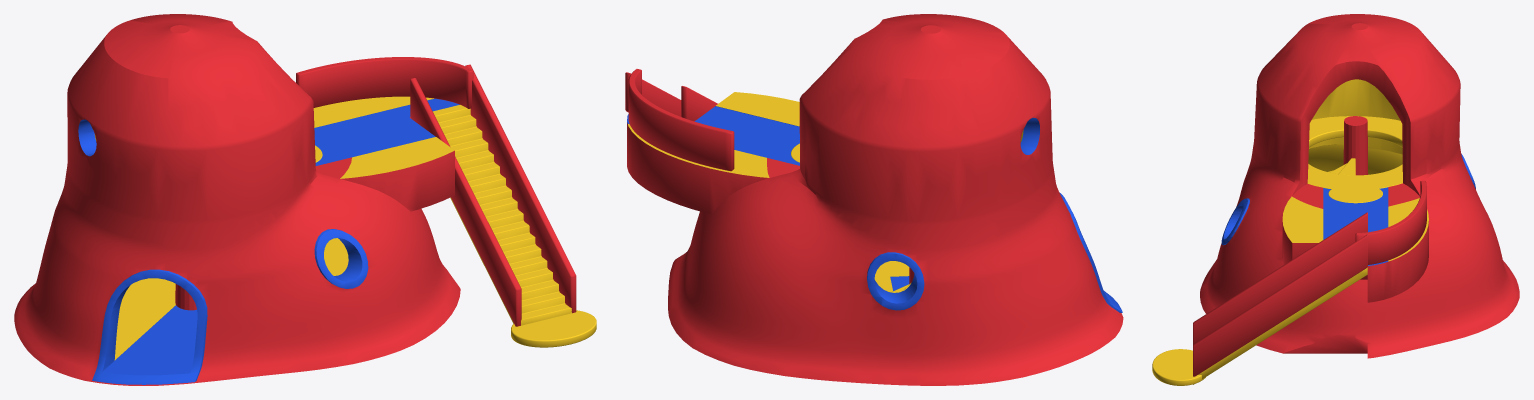
File: adobe_15_roofstep_burrow.glb
3 renders of one model, left to right at view 1: azimuth 30°, elevation 25°; view 2: azimuth 150°, elevation 25°; view 3: azimuth 270°, elevation 25°, orthographic. The views are drawn at different scales.
Parts seen in each view (by area): view 1: 15 • Roofstep Burrow, Exterior roof approach, Roof terrace outer lip, Exterior roof approach side guard.001, Exterior roof approach side guard, Exterior roof stair foot; view 2: 15 • Roofstep Burrow, Roof terrace outer lip, Exterior roof approach side guard.001, Exterior roof approach side guard; view 3: 15 • Roofstep Burrow, Exterior roof approach side guard.001, Exterior roof approach side guard, Roof doorway interior landing, Roof terrace outer lip, Exterior roof stair foot, Exterior roof approach, Inner spiral adobe core, Roof arch continuous threshold.
Boxes of the visible parts, x1,y1,x2,y2 form: 15 • Roofstep Burrow: [14, 14, 460, 385]; Exterior roof approach: [433, 105, 571, 325]; Roof terrace outer lip: [296, 57, 473, 108]; Exterior roof approach side guard.001: [465, 64, 576, 313]; Exterior roof approach side guard: [410, 78, 521, 326]; Exterior roof stair foot: [511, 310, 596, 347]; 15 • Roofstep Burrow: [627, 14, 1123, 385]; Roof terrace outer lip: [628, 69, 734, 171]; Exterior roof approach side guard.001: [625, 72, 681, 116]; Exterior roof approach side guard: [681, 86, 717, 121]; 15 • Roofstep Burrow: [1200, 14, 1519, 358]; Exterior roof approach side guard.001: [1193, 234, 1367, 376]; Exterior roof approach side guard: [1193, 212, 1367, 344]; Roof doorway interior landing: [1307, 116, 1402, 189]; Roof terrace outer lip: [1355, 180, 1426, 264]; Exterior roof stair foot: [1152, 349, 1205, 385]; Exterior roof approach: [1193, 267, 1367, 384]; Inner spiral adobe core: [1343, 116, 1368, 175]; Roof arch continuous threshold: [1328, 184, 1382, 203].
Size of the model in its own units: 10.78 by 6.55 by 9.03.
